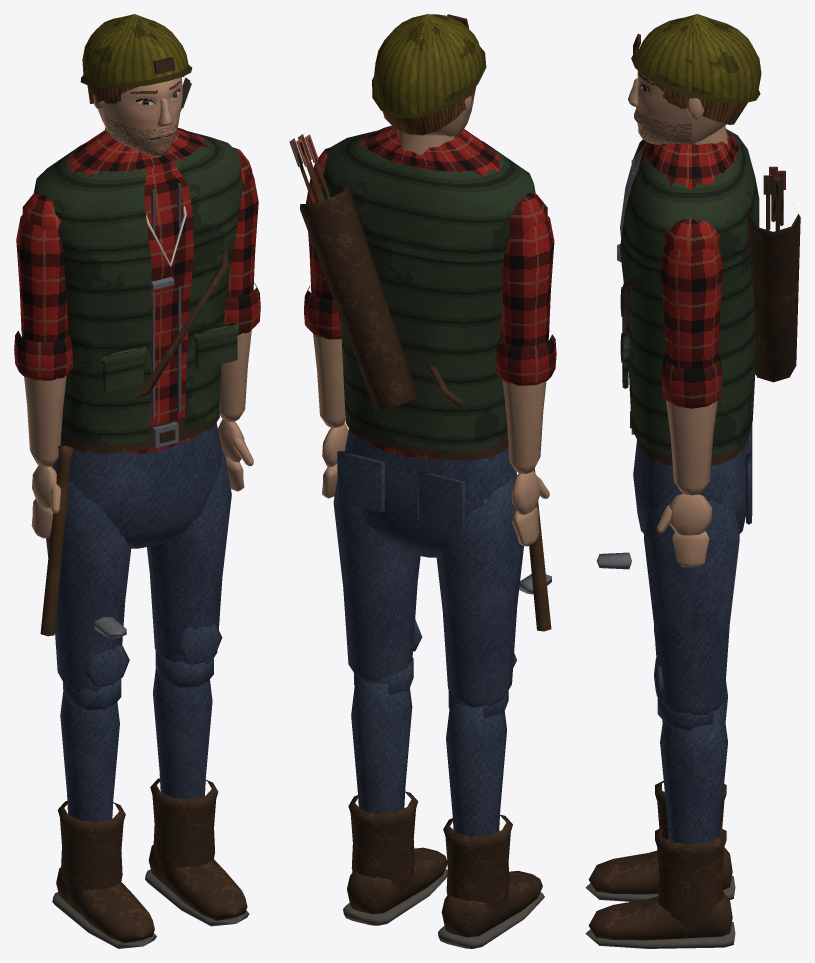
Rendered from char_owen.glb.
3 views of the same model, side by side, from view 1: azimuth 30°, elevation 25°; view 2: azimuth 150°, elevation 25°; view 3: azimuth 270°, elevation 25° (orthographic). The views are drawn at different scales.
Visible parts, largest first — view 1: Spine, Hips, ShinL, ThighR, ShinR, Head, ThighL, UpperArmR, ForearmR, FootL, FootR, ForearmL (+3 smaller); view 2: Spine, Hips, ThighR, ShinL, ShinR, Head, ThighL, UpperArmR, ForearmR, FootR, FootL, ForearmL (+3 smaller); view 3: Spine, ThighL, Head, ShinL, UpperArmL, Hips, ForearmL, FootL, FootR, HandL, ShinR.
Boxes of the visible parts, <box> form: Spine: <box>33,77,243,454</box>; Hips: <box>40,409,222,638</box>; ShinL: <box>150,650,218,876</box>; ThighR: <box>46,469,130,691</box>; ShinR: <box>58,679,125,898</box>; Head: <box>80,14,192,157</box>; ThighL: <box>147,450,231,665</box>; UpperArmR: <box>16,192,68,342</box>; ForearmR: <box>14,330,72,466</box>; FootL: <box>145,845,249,926</box>; FootR: <box>52,867,156,948</box>; ForearmL: <box>219,282,260,421</box>; Spine: <box>289,125,535,460</box>; Hips: <box>337,417,551,631</box>; ThighR: <box>436,476,523,707</box>; ShinL: <box>348,658,418,893</box>; ShinR: <box>443,690,512,916</box>; Head: <box>372,14,486,155</box>; ThighL: <box>333,481,422,681</box>; UpperArmR: <box>500,192,554,346</box>; ForearmR: <box>495,334,556,473</box>; FootR: <box>438,870,544,948</box>; FootL: <box>343,847,447,925</box>; ForearmL: <box>304,285,346,427</box>; Spine: <box>617,129,800,456</box>; ThighL: <box>644,501,739,714</box>; Head: <box>628,14,761,144</box>; ShinL: <box>655,697,727,928</box>; UpperArmL: <box>660,219,723,369</box>; Hips: <box>597,411,752,569</box>; ForearmL: <box>662,355,721,495</box>; FootL: <box>585,892,735,948</box>; FootR: <box>585,847,735,901</box>; HandL: <box>656,493,711,567</box>; ShinR: <box>655,681,727,839</box>.
Bounding box in the file's own units: 0.5263 × 1.87 × 0.4039.
15 materials, 15 textured.
